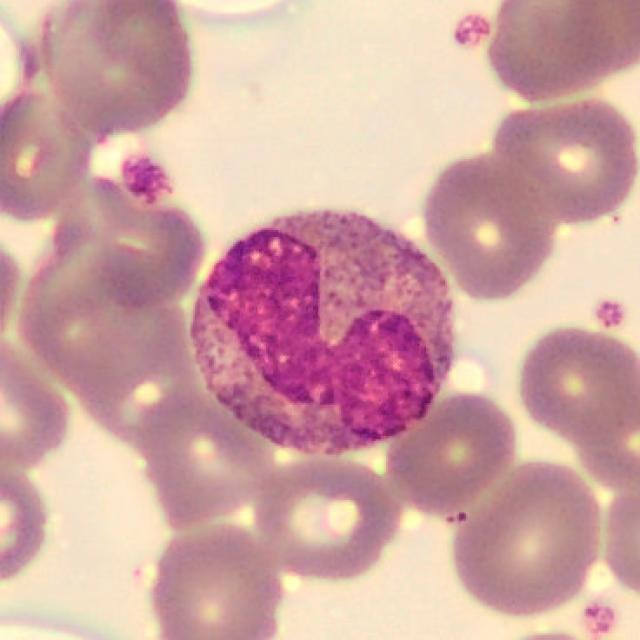Bastonete: (186, 209, 459, 457)
